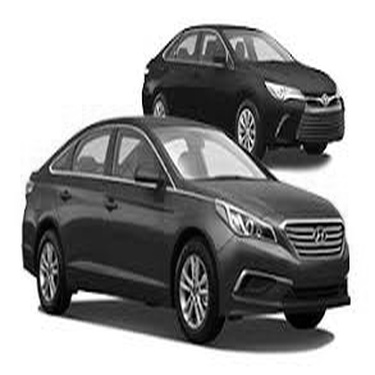car: (1, 115, 361, 351), (107, 23, 350, 162)
